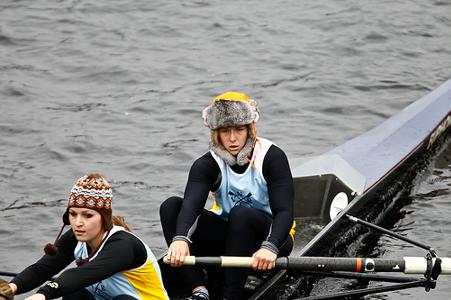person: (159, 91, 295, 300)
